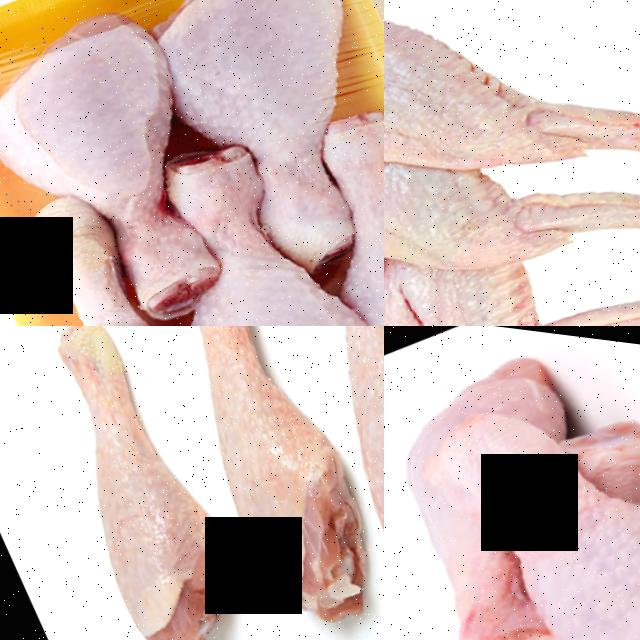chicken thigh: (0, 326, 292, 640), (98, 326, 384, 640), (0, 0, 256, 326), (409, 326, 640, 640), (133, 115, 384, 326), (212, 326, 384, 633), (0, 177, 244, 326), (274, 70, 384, 326)
chicken wing: (384, 0, 640, 318), (384, 117, 640, 326)
